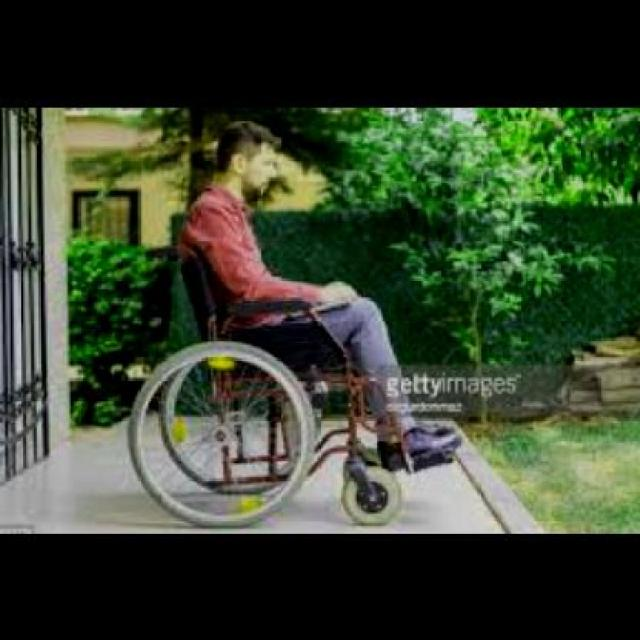wheelchairs: (118, 256, 460, 530)
